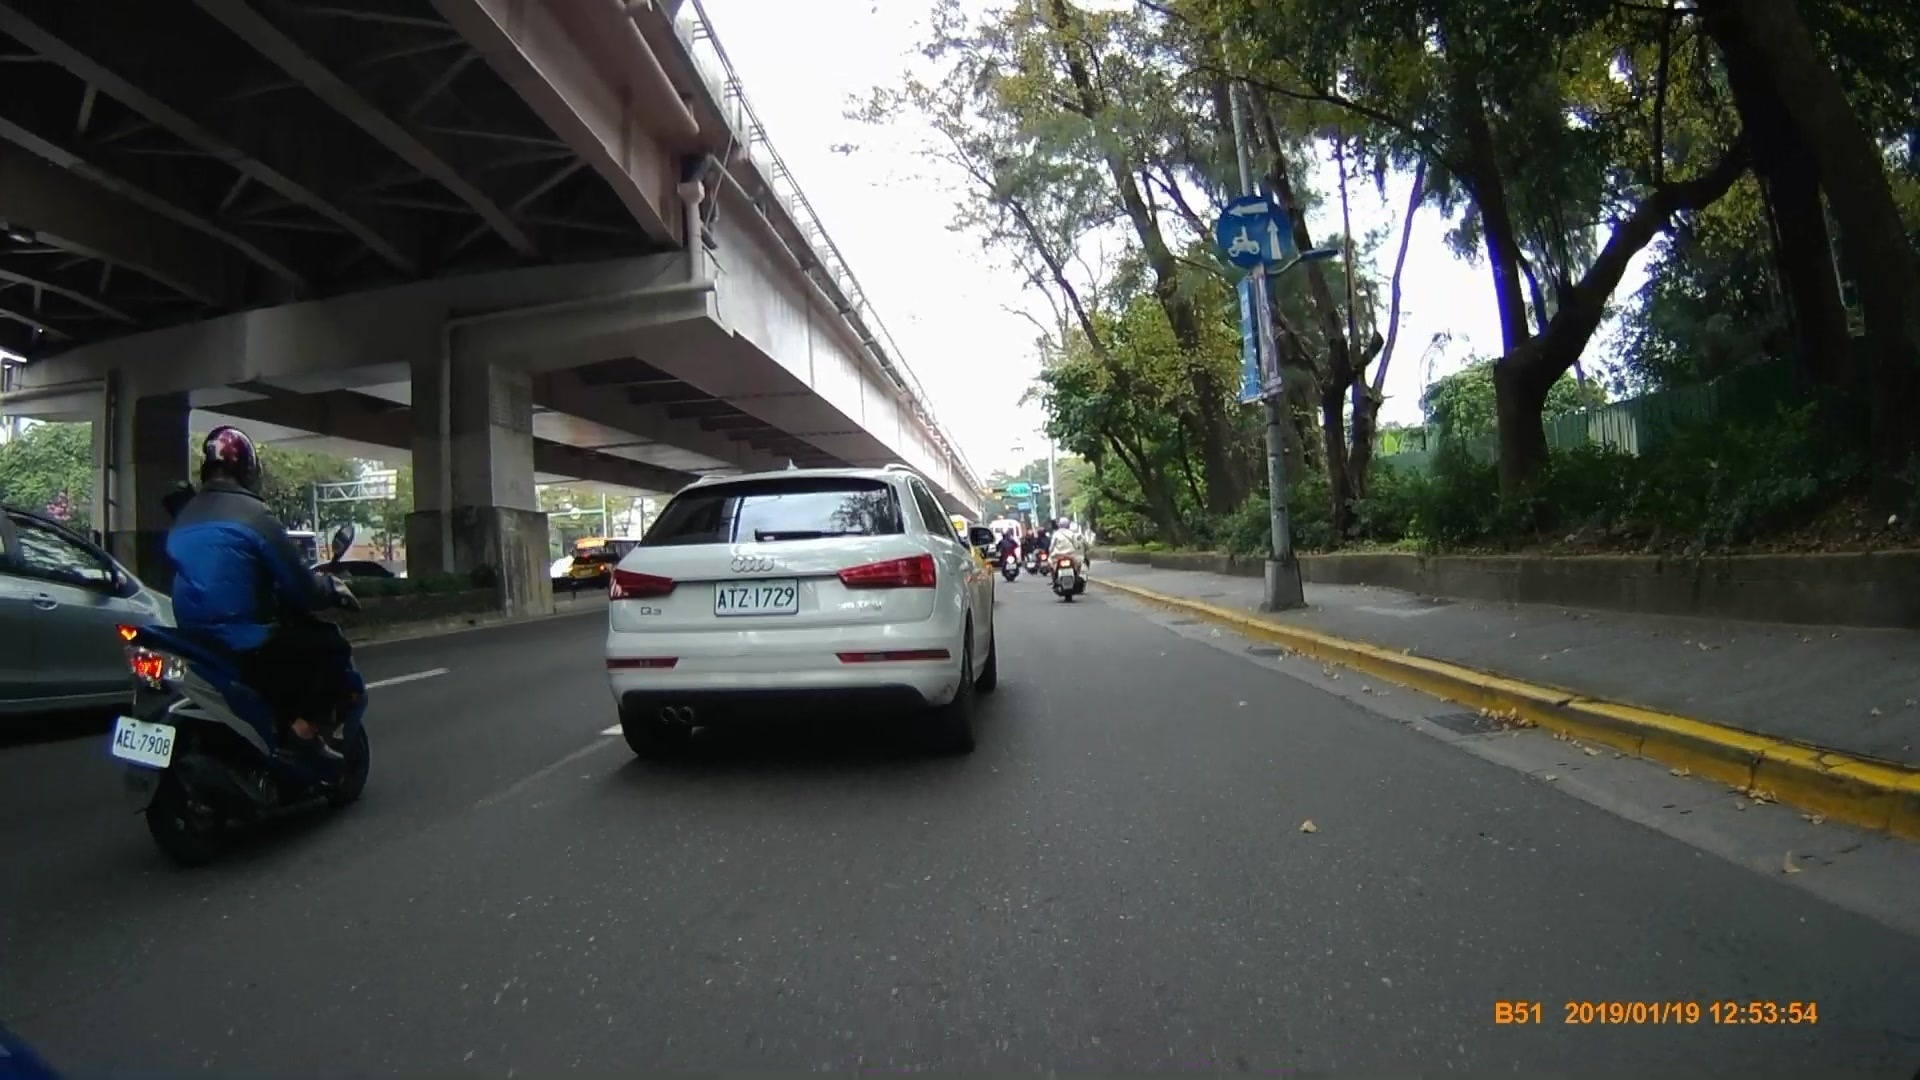License_plate: (706, 576, 802, 620), (107, 709, 177, 769)
